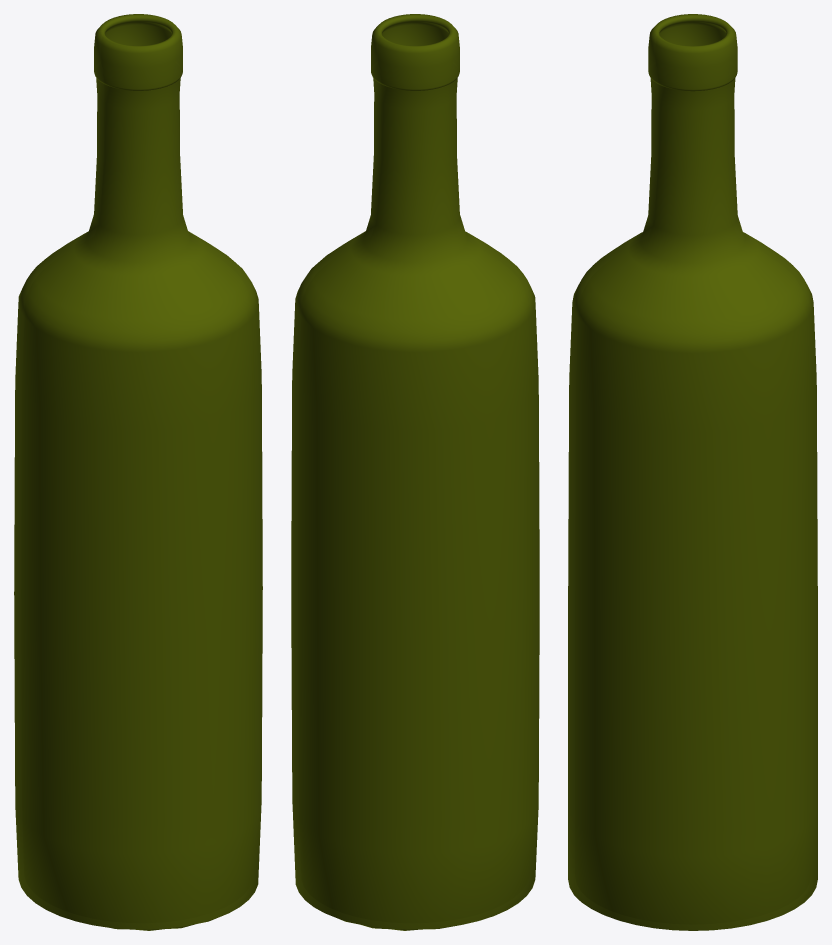
File: bottle.fbx
3 renders of one model, left to right at view 1: azimuth 30°, elevation 25°; view 2: azimuth 150°, elevation 25°; view 3: azimuth 270°, elevation 25°, orthographic.
Parts seen in each view (by area): view 1: wine_bottle; view 2: wine_bottle; view 3: wine_bottle.
Boxes of the visible parts, bbox=[...] form: wine_bottle: bbox=[14, 14, 262, 930]; wine_bottle: bbox=[291, 14, 539, 930]; wine_bottle: bbox=[568, 14, 817, 930].
Bounding box in the file's own units: 1.78 × 6.74 × 1.78.
